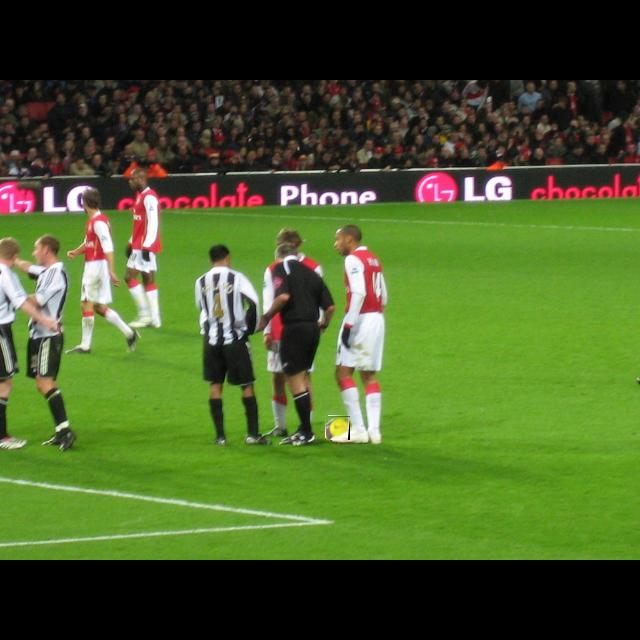Football: (326, 416, 350, 440)
